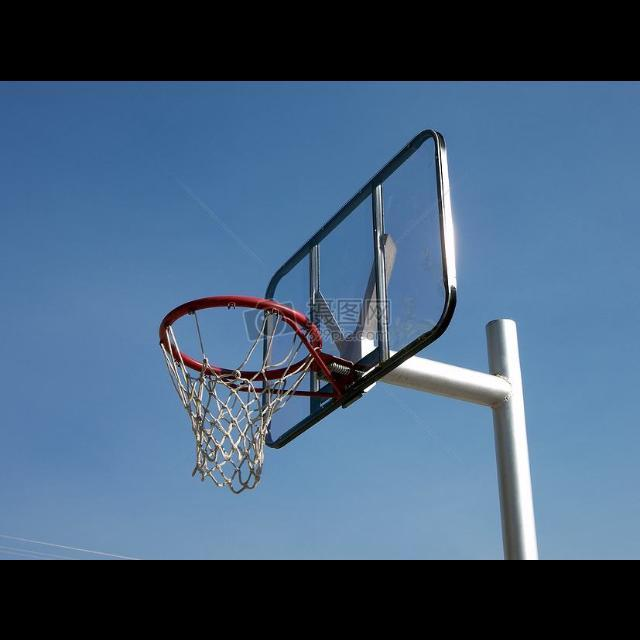rim: (158, 294, 322, 493)
